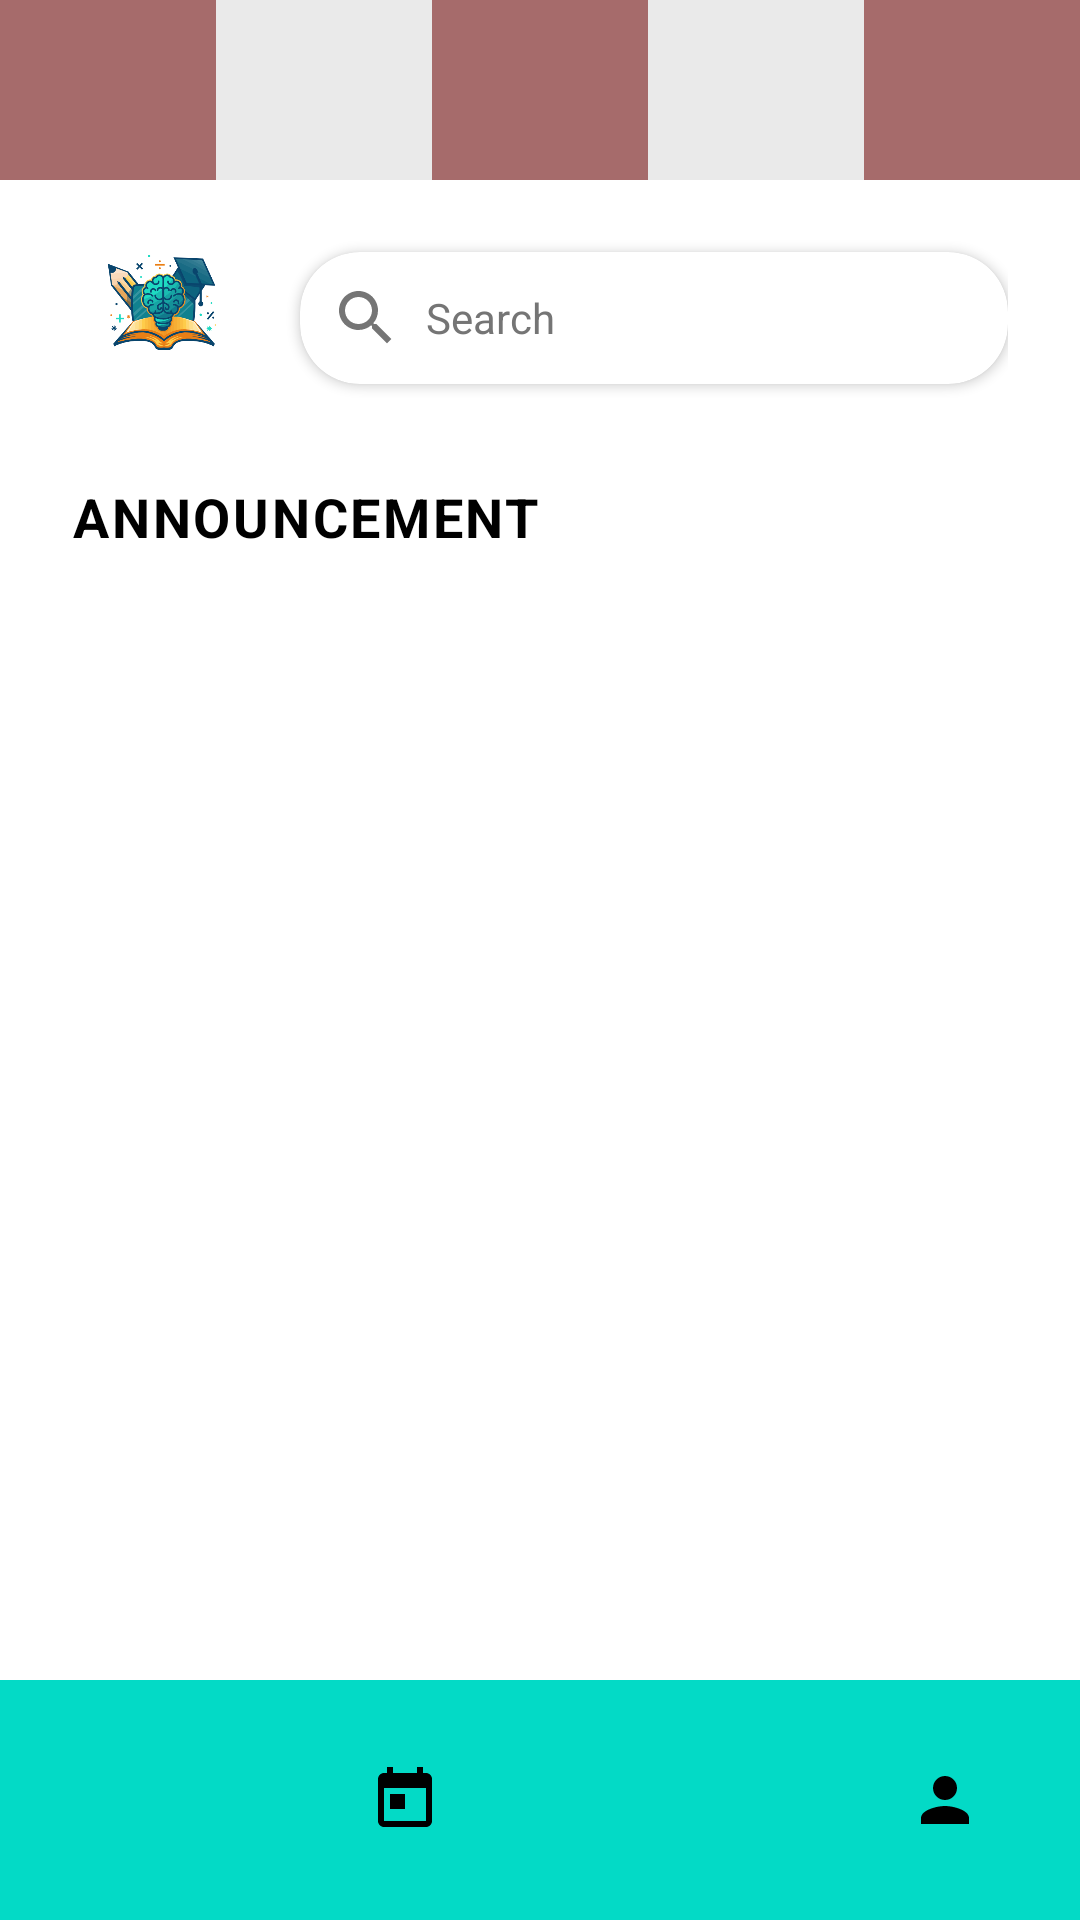

Where icons sit on this 1080 × 1920 app screen, as (x1, y1, x2, y2):
tutorlink: (108, 255, 216, 350)
